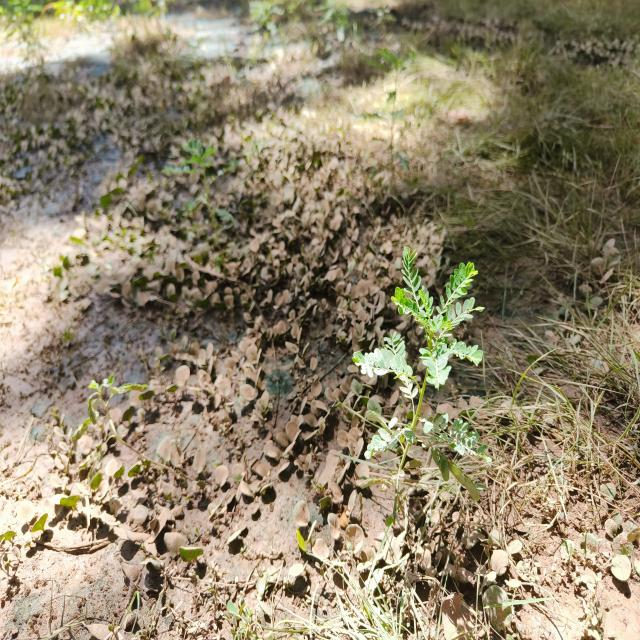weed: (353, 242, 506, 407)
